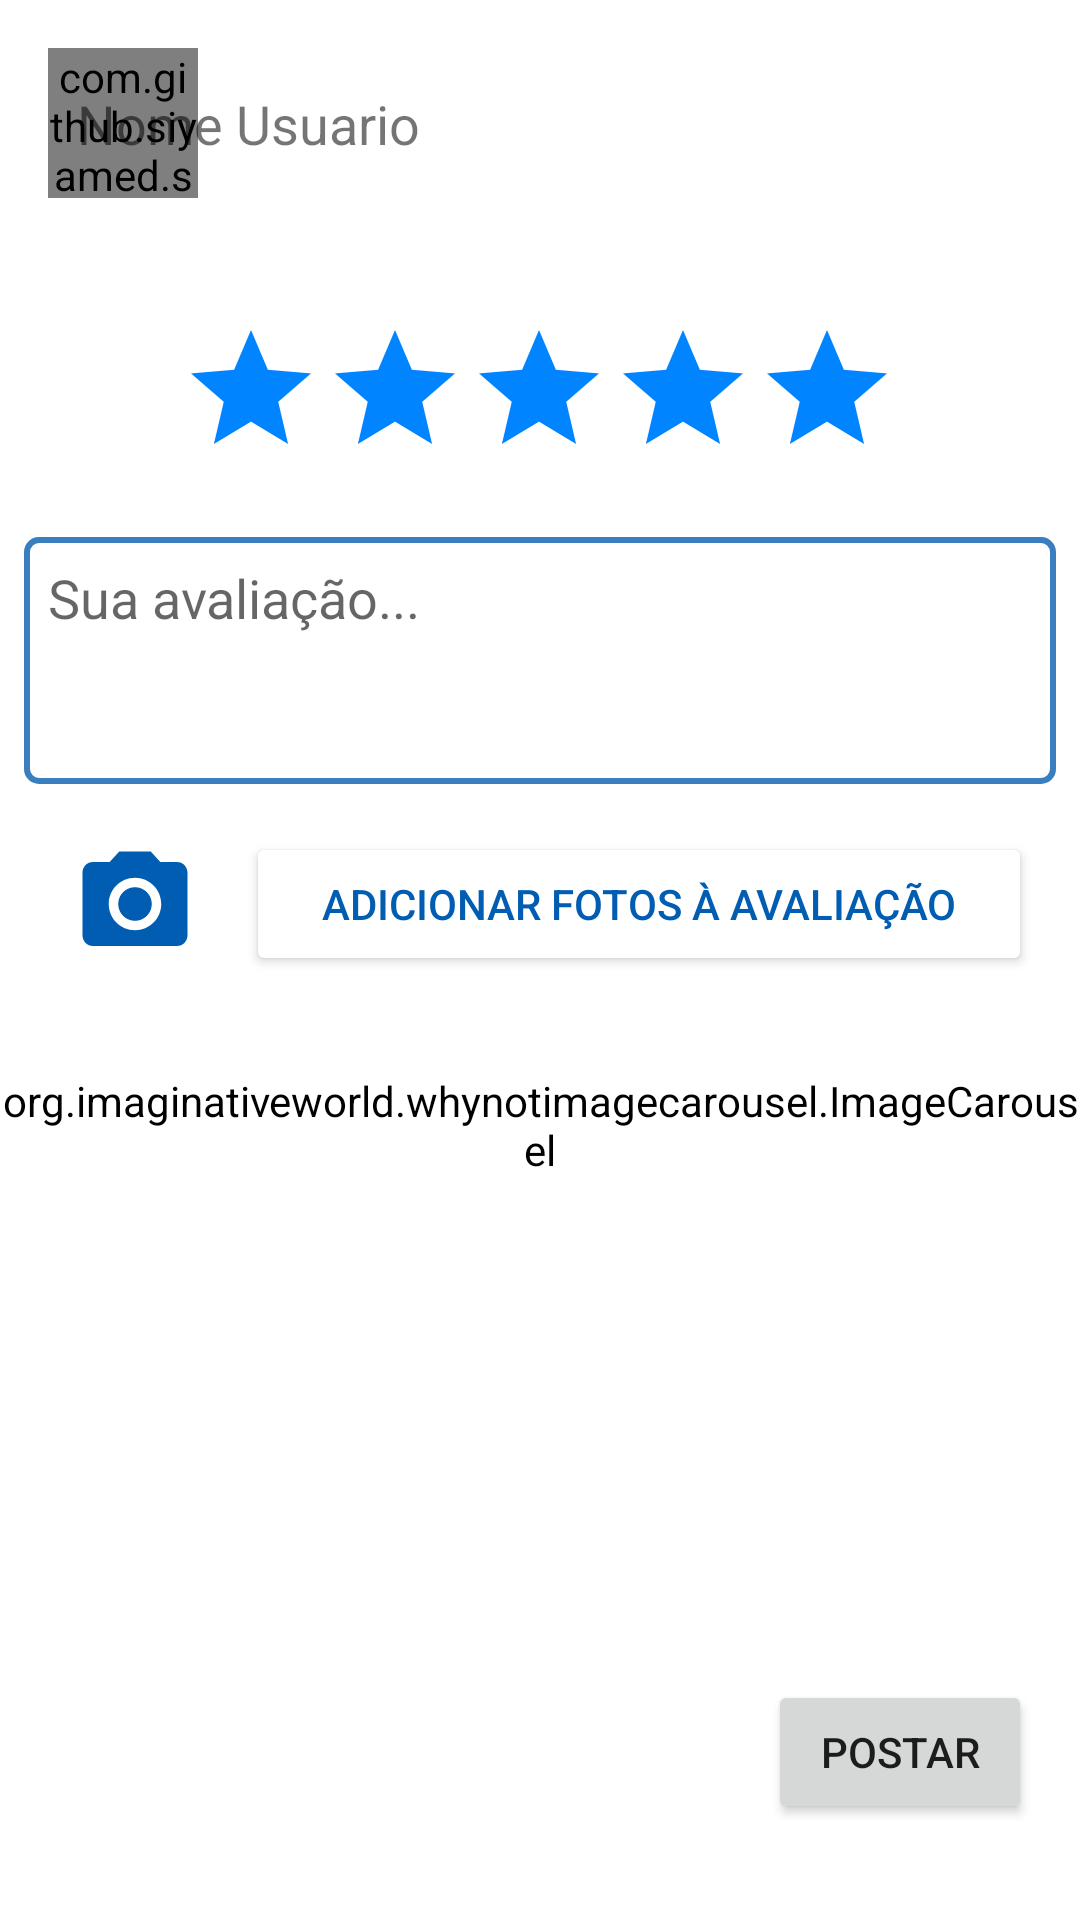

Point at icon controls on the screen. Image size 1080×1920, points as point (x, y).
photo camera: point (135, 898)
